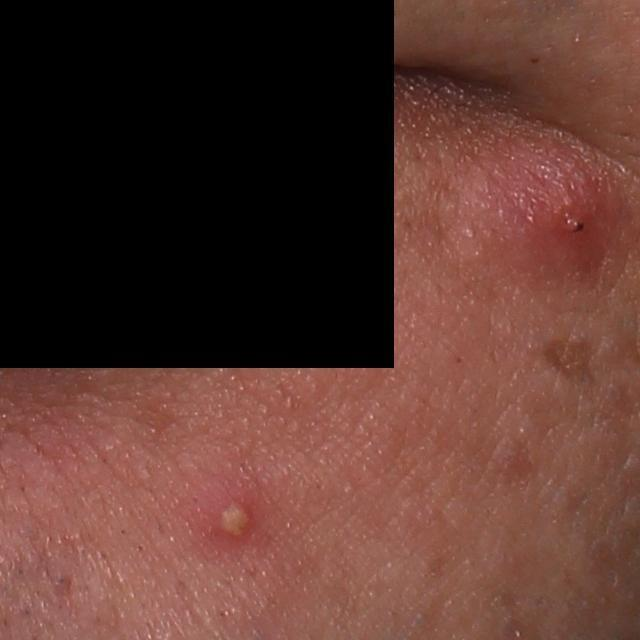atrophic_scar: (541, 338, 593, 389)
papule: (466, 126, 622, 284)
pustule: (202, 487, 262, 557)
